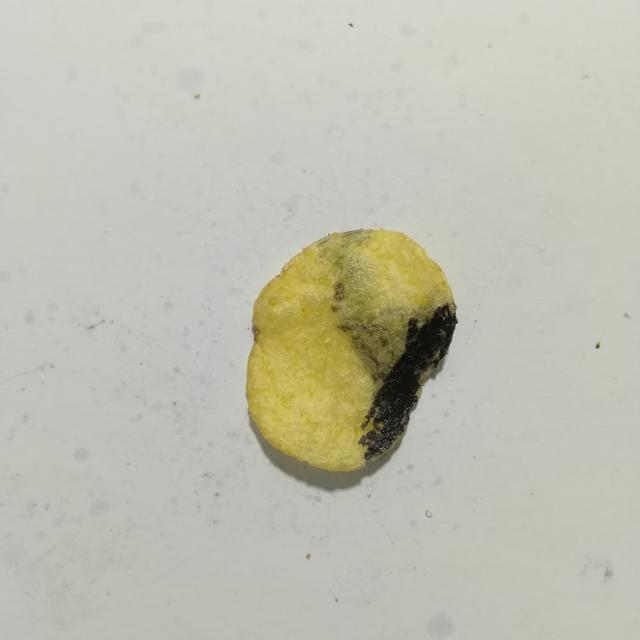chip: (246, 230, 457, 471)
damaged: (358, 304, 457, 460)
semi-damaged: (315, 230, 457, 389)
